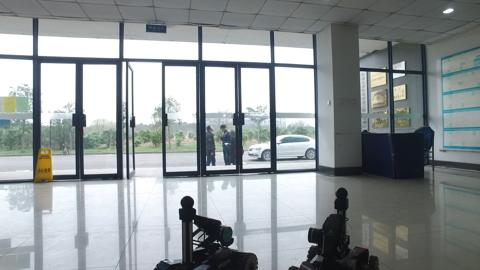chariot: (151, 194, 259, 269), (288, 184, 382, 268)
